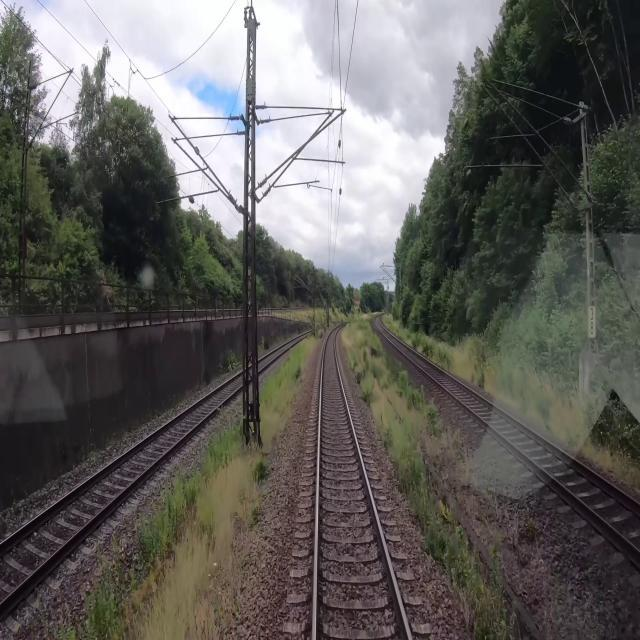Plant: (342, 321, 525, 638), (30, 415, 272, 639), (248, 336, 317, 441)
